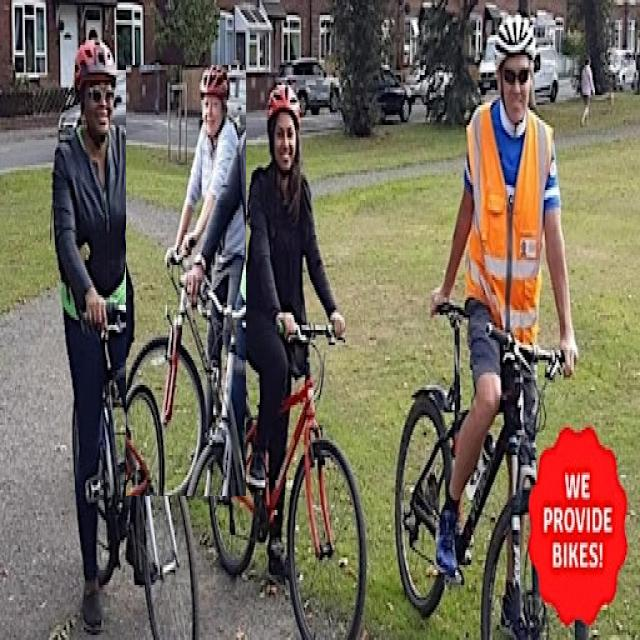bicycle: (395, 15, 578, 636), (208, 82, 366, 638), (52, 40, 198, 638), (126, 65, 246, 496)
